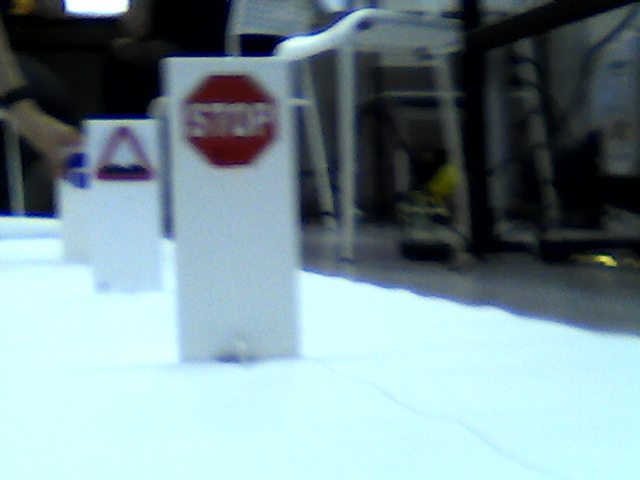Nerov: (95, 121, 161, 190)
